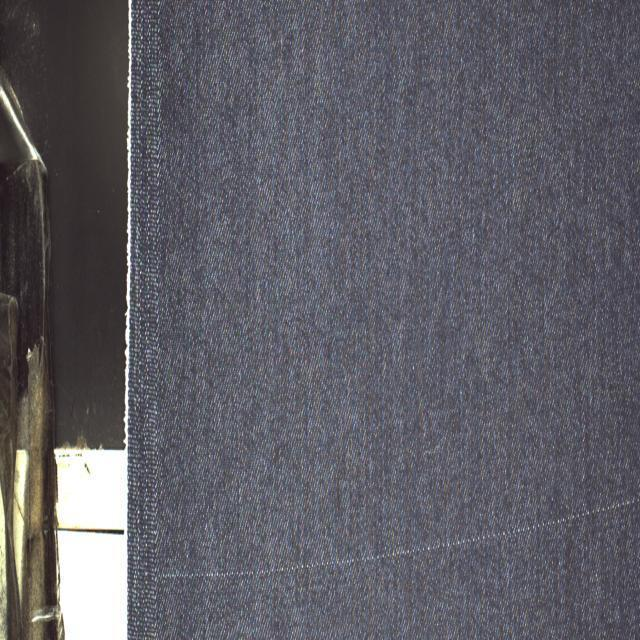pulled_or_thick_thread: (157, 485, 640, 588)
